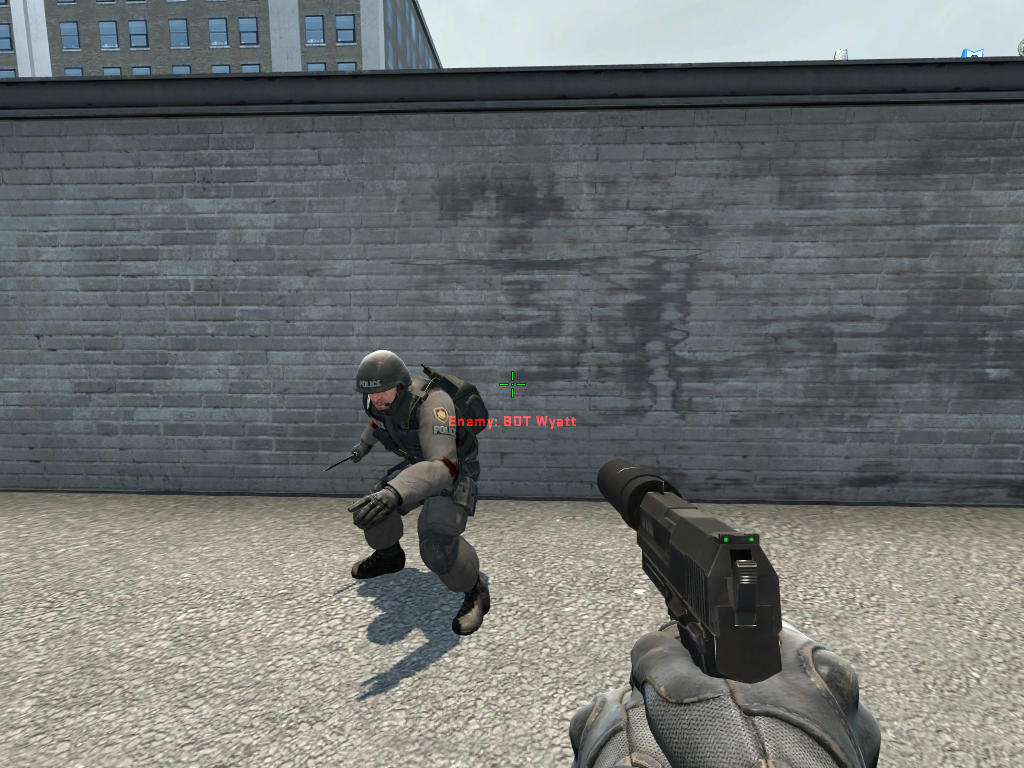ct head: (353, 348, 414, 414)
